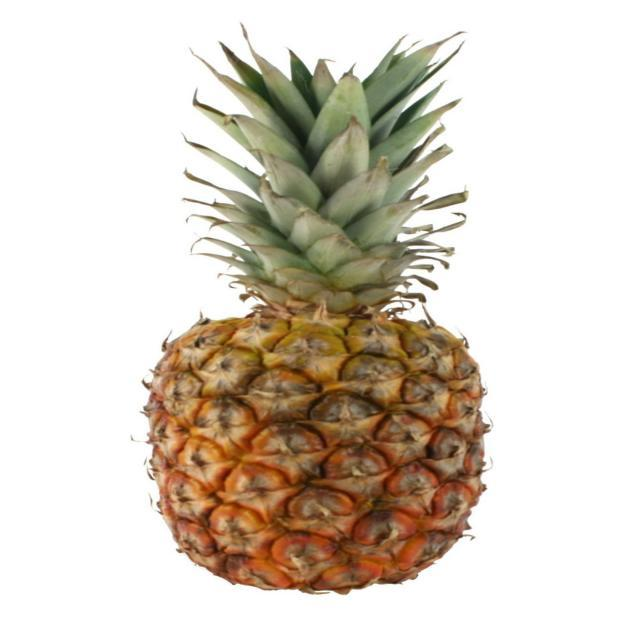PINEAPLE: (147, 33, 486, 594)
